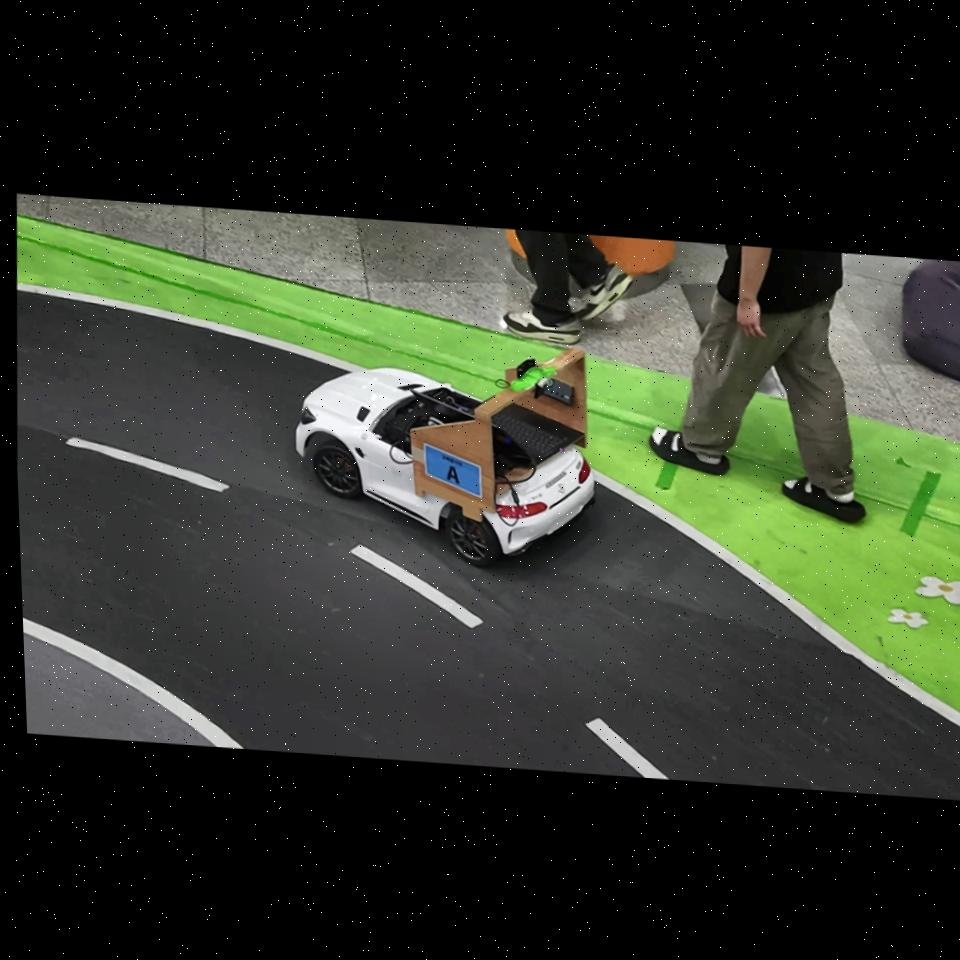broken_line: (349, 544, 483, 628), (66, 437, 230, 492), (585, 717, 669, 779)
